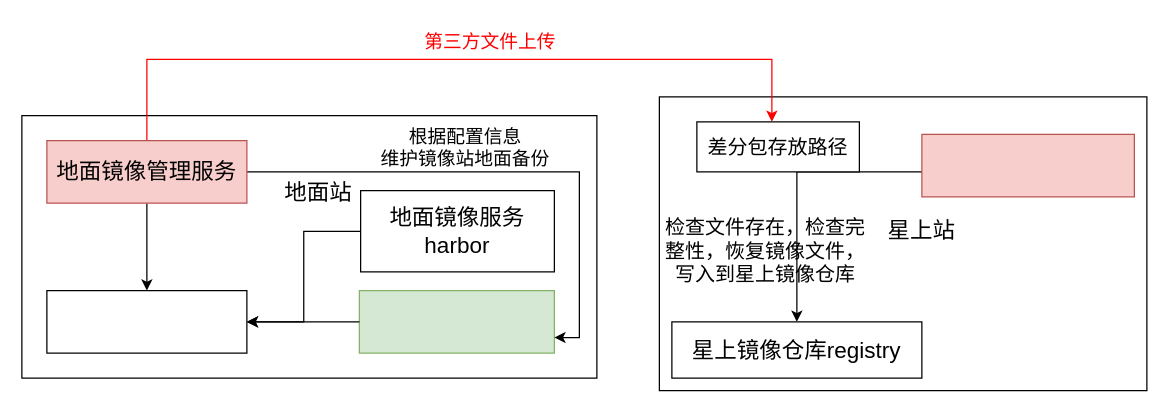
Some shapes in this 1169 by 413 pixel diagram are drawn without their labels. The centre of each missing label's shape, as x and y in pixels:
星上镜像仓库备份: pixel 456 321
星上镜像管理服务: pixel 1027 165
镜像存储文件系统: pixel 146 321
